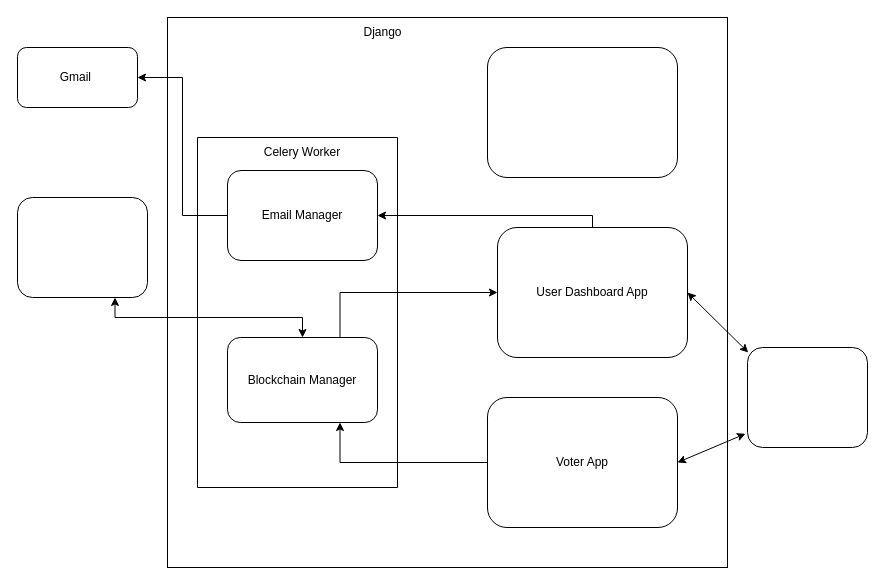
Image size: 885x585. Some labels were removed from this diagram. Here are the shapes that lost their labels. From the top down, the centre of each, then its label:
At point (582, 112): "Main public App".
At point (82, 247): "Polygon RPC".
At point (807, 397): "Postgres".
